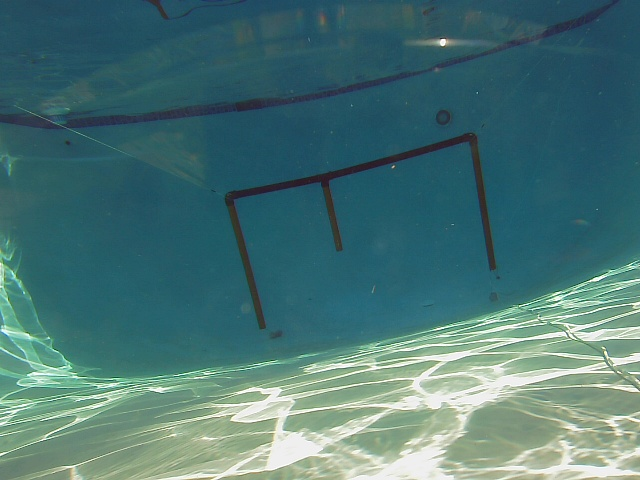Gate: (224, 201, 268, 332), (465, 137, 499, 275), (317, 179, 345, 255)
